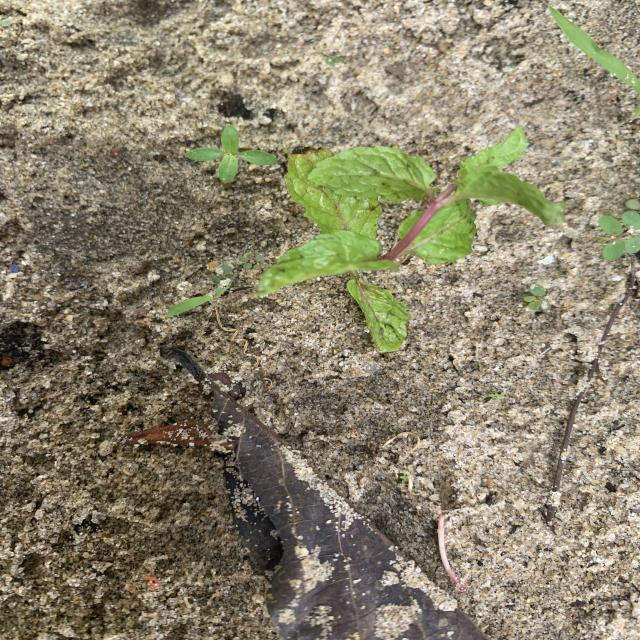crop: (259, 128, 562, 351)
weed: (550, 7, 639, 93), (186, 126, 276, 183), (167, 273, 231, 315), (596, 202, 639, 259), (524, 285, 551, 309), (239, 254, 263, 269), (488, 393, 503, 398)
